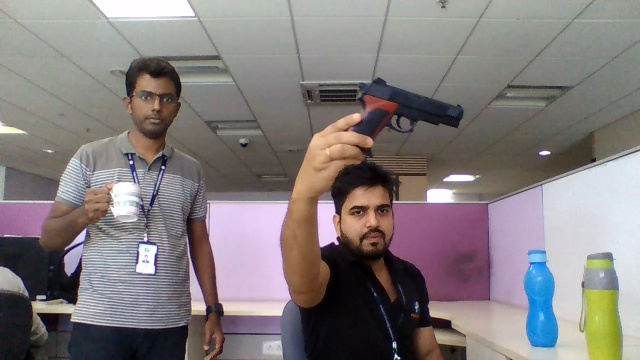gun: (364, 76, 463, 138)
